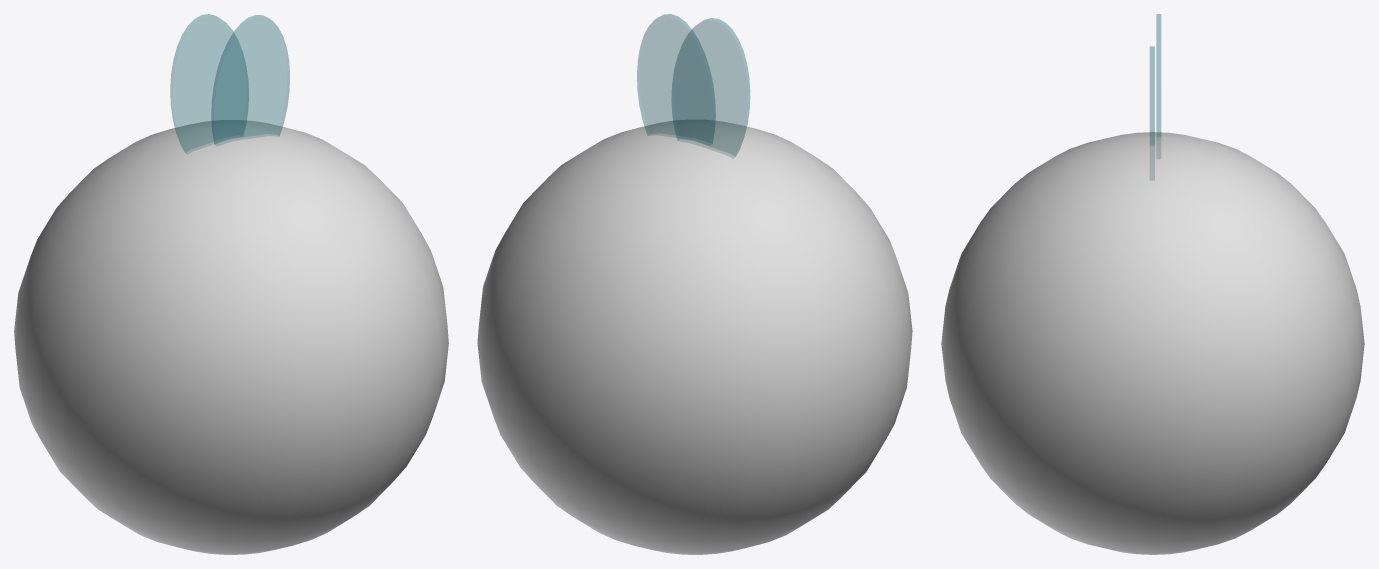
File: bee.glb
3 views of the same model, side by side, from view 1: azimuth 30°, elevation 25°; view 2: azimuth 150°, elevation 25°; view 3: azimuth 270°, elevation 25° (orthographic). The views are drawn at different scales.
Parts seen in each view (by area): view 1: Body, LeftWing, RightWing; view 2: Body, LeftWing, RightWing; view 3: Body, LeftWing, RightWing.
Part boxes in pixels (left/top/right/bottom): Body: left=14, top=120, right=448, bottom=554; LeftWing: left=170, top=14, right=248, bottom=153; RightWing: left=211, top=15, right=289, bottom=145; Body: left=477, top=120, right=912, bottom=554; LeftWing: left=671, top=18, right=749, bottom=157; RightWing: left=637, top=14, right=715, bottom=143; Body: left=941, top=132, right=1364, bottom=554; LeftWing: left=1156, top=14, right=1160, bottom=158; RightWing: left=1150, top=46, right=1154, bottom=179.
Bounding box in the file's own units: 2 × 2.65 × 2.
